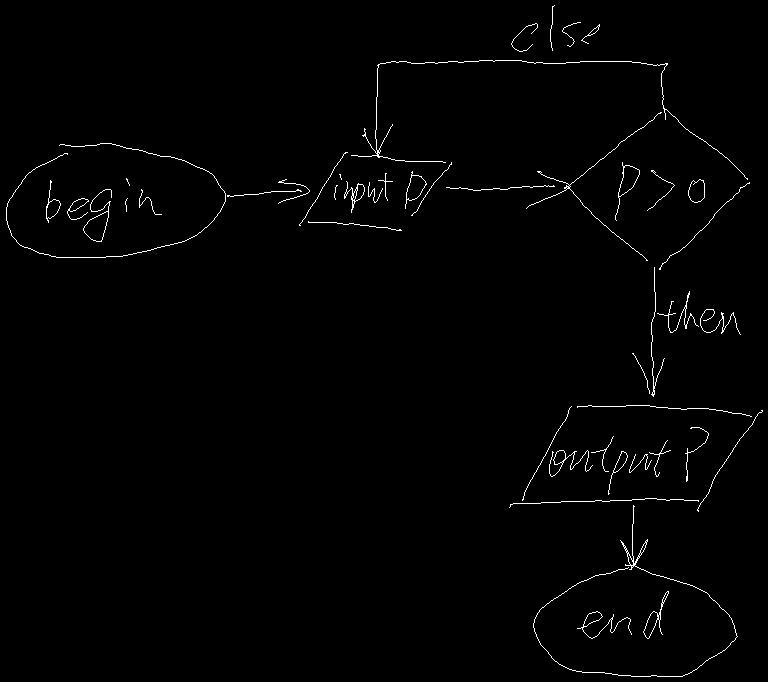arrow: (362, 60, 667, 157), (446, 171, 570, 208), (632, 267, 664, 396), (227, 179, 309, 203), (620, 505, 647, 569)
data: (509, 405, 762, 511), (299, 152, 451, 230)
decision: (564, 108, 749, 269)
terminator: (6, 143, 225, 257), (533, 564, 737, 676)
text: (549, 427, 708, 494), (46, 178, 161, 241), (615, 162, 704, 220), (577, 591, 668, 638), (511, 5, 599, 51), (334, 171, 426, 212), (657, 291, 740, 334)
